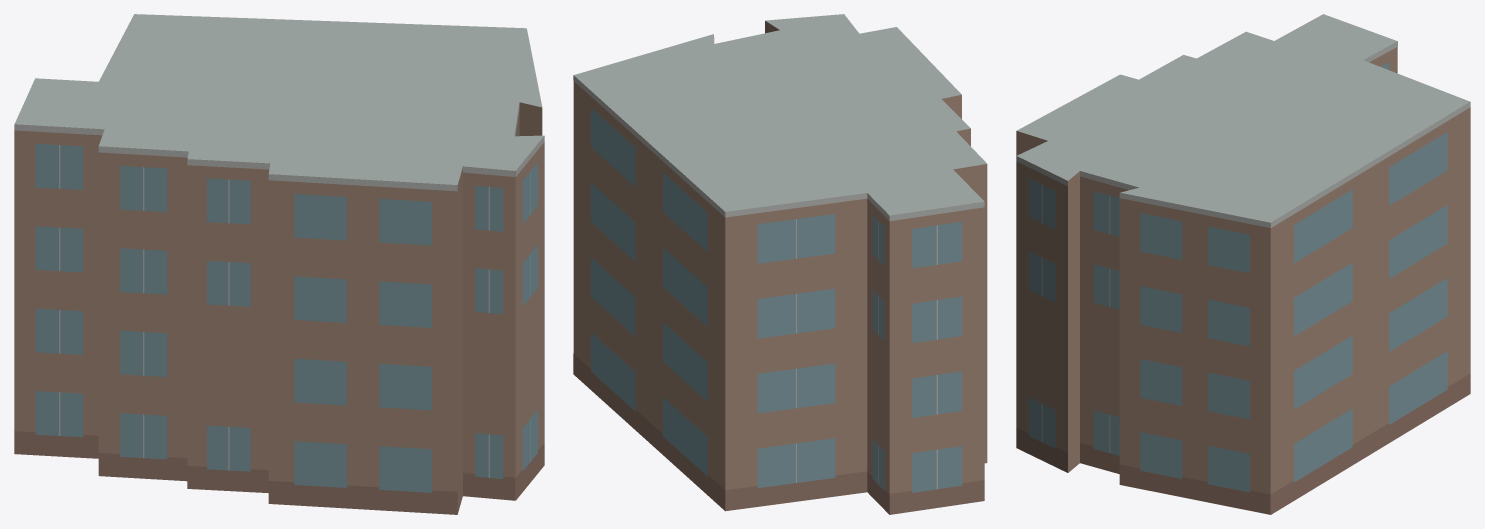
The model's file is survey-upis-33015496.glb.
The picture shows the model from 3 angles, left to right: view 1: azimuth 30°, elevation 25°; view 2: azimuth 150°, elevation 25°; view 3: azimuth 270°, elevation 25°; orthographic projection. The views are drawn at different scales.
Visible parts, largest first — view 1: survey-upis-33015496.tmp; view 2: survey-upis-33015496.tmp; view 3: survey-upis-33015496.tmp.
Part boxes in pixels (x1,y1,x2,y2): survey-upis-33015496.tmp: (14,14,544,514); survey-upis-33015496.tmp: (573,14,987,514); survey-upis-33015496.tmp: (1016,14,1470,514).
Bounding box in the file's own units: 20.01 × 13.05 × 18.39.
